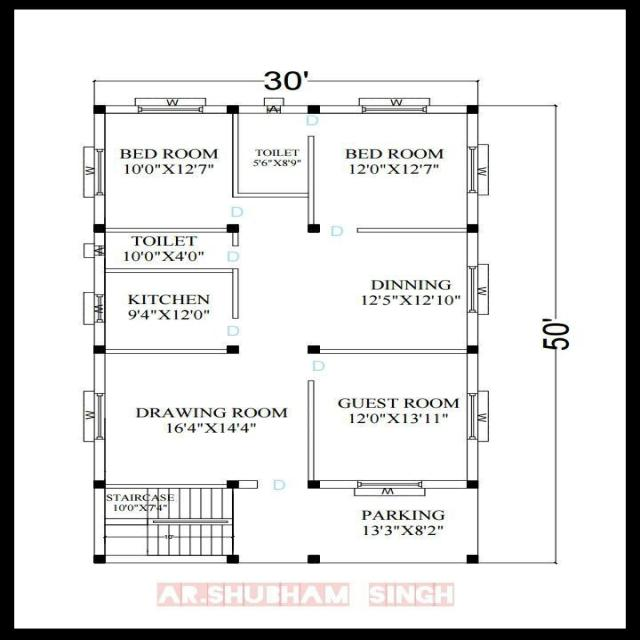Blueprint: (78, 94, 490, 572)
column: (90, 552, 111, 567), (462, 222, 484, 236), (302, 552, 324, 566), (89, 343, 112, 356), (224, 103, 243, 117), (463, 102, 482, 116), (462, 478, 481, 492), (464, 552, 483, 566), (220, 478, 242, 490), (224, 222, 244, 235), (89, 222, 109, 235), (303, 343, 323, 356), (222, 343, 242, 356), (90, 478, 110, 491), (305, 478, 325, 491), (462, 344, 483, 356), (305, 103, 324, 116), (91, 103, 109, 116), (222, 553, 243, 564), (305, 221, 321, 235)
wall: (103, 554, 230, 564), (318, 348, 468, 355), (92, 487, 107, 557), (104, 226, 228, 234), (307, 379, 316, 482), (306, 134, 316, 226), (355, 227, 469, 234), (103, 268, 234, 274), (231, 112, 240, 199), (103, 483, 229, 489), (104, 348, 228, 354), (92, 352, 108, 396), (92, 438, 107, 482), (229, 191, 311, 199), (465, 438, 480, 481), (465, 352, 479, 395), (93, 254, 107, 296), (92, 113, 106, 151), (230, 267, 240, 320), (465, 231, 479, 268), (425, 104, 468, 116), (319, 104, 365, 115), (465, 311, 479, 347), (466, 113, 480, 148), (420, 479, 468, 489), (466, 192, 480, 225), (318, 479, 360, 490), (93, 194, 107, 225), (92, 321, 107, 348), (104, 104, 140, 115), (237, 104, 269, 115), (279, 104, 309, 115), (201, 104, 228, 115), (92, 232, 107, 248), (238, 479, 258, 490), (231, 231, 240, 248)
